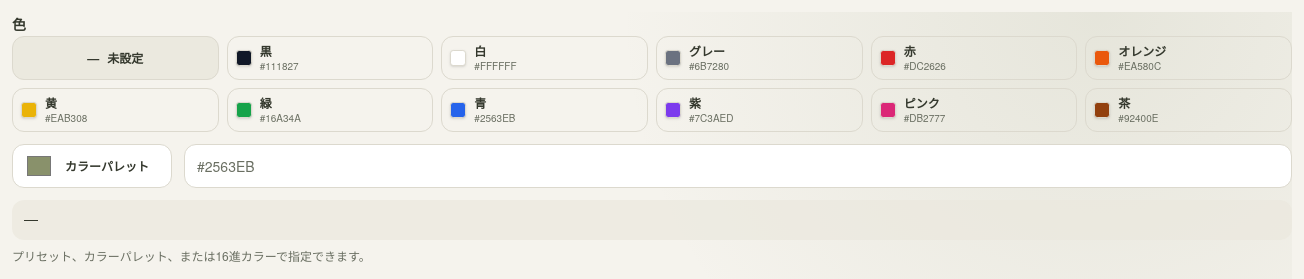
ItemColorField › uses the native color palette as another input method
Type "#abcdef" into the colour field named "カラーパレットから色を選ぶ" at (39, 166), box x1=25 y1=152 x2=53 y2=180
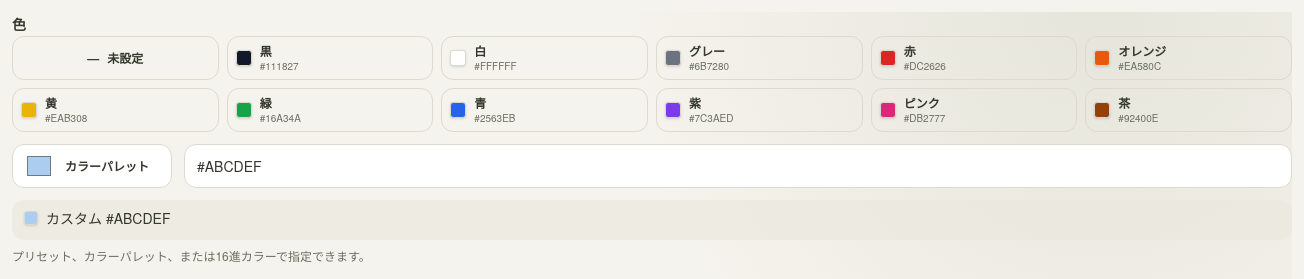
Expected: the field named "16進カラー" holds "#ABCDEF", x1=184 y1=144 x2=1292 y2=188
